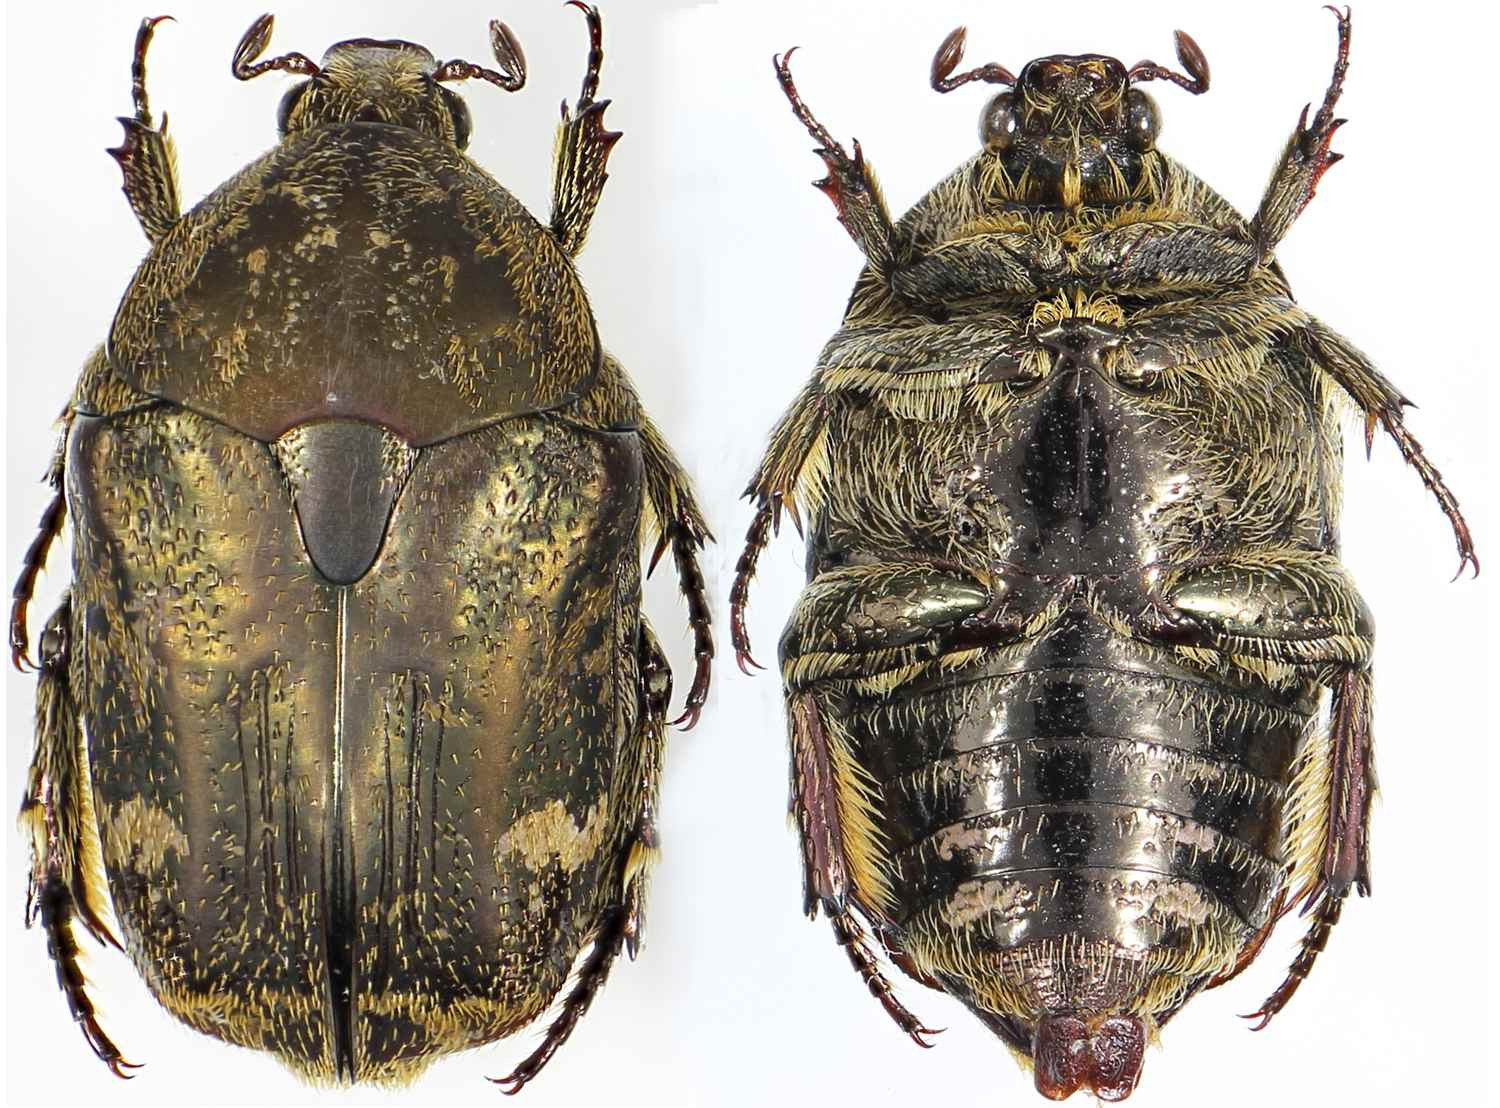Protaetia_fusca: (14, 3, 723, 1077)
